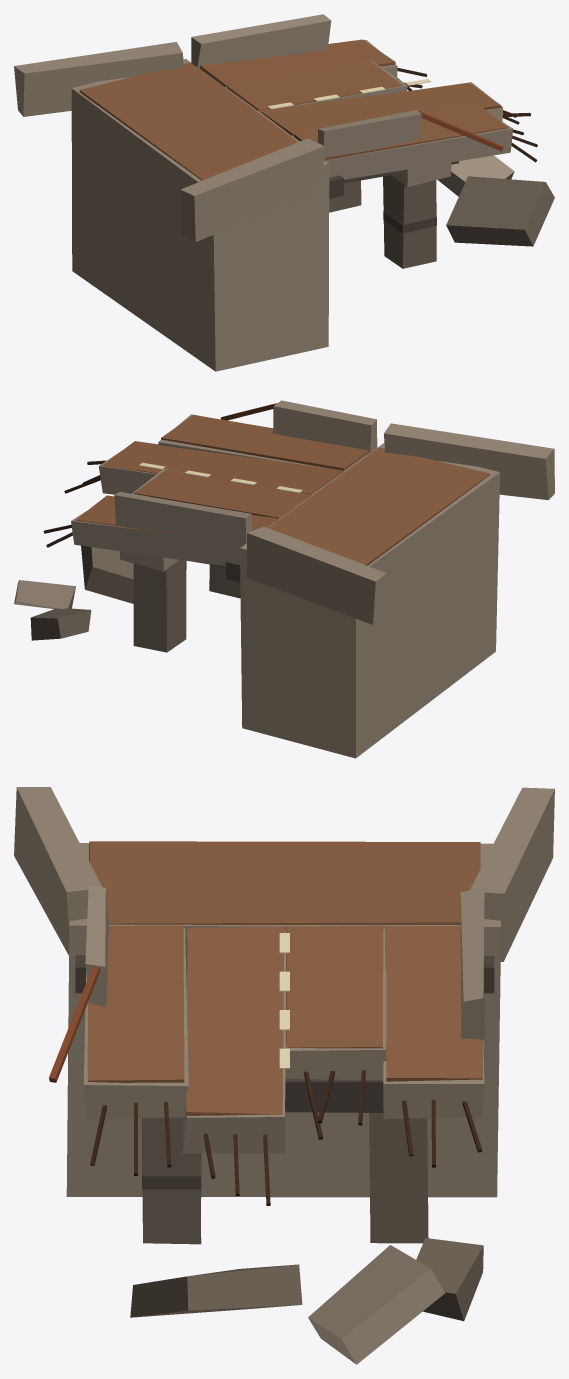
Rendered from bridge_broken.glb.
3 renders of one model, top to bottom at view 1: azimuth 30°, elevation 25°; view 2: azimuth 150°, elevation 25°; view 3: azimuth 270°, elevation 25°, orthographic. The views are drawn at different scales.
Visible parts, largest first — view 1: bridge_broken; view 2: bridge_broken; view 3: bridge_broken.
Boxes of the visible parts, x1,y1,x2,y2 form: bridge_broken: (14, 14, 554, 371); bridge_broken: (14, 400, 554, 758); bridge_broken: (14, 787, 554, 1364).
Bounding box in the file's own units: 13.2 × 6.17 × 9.55.
